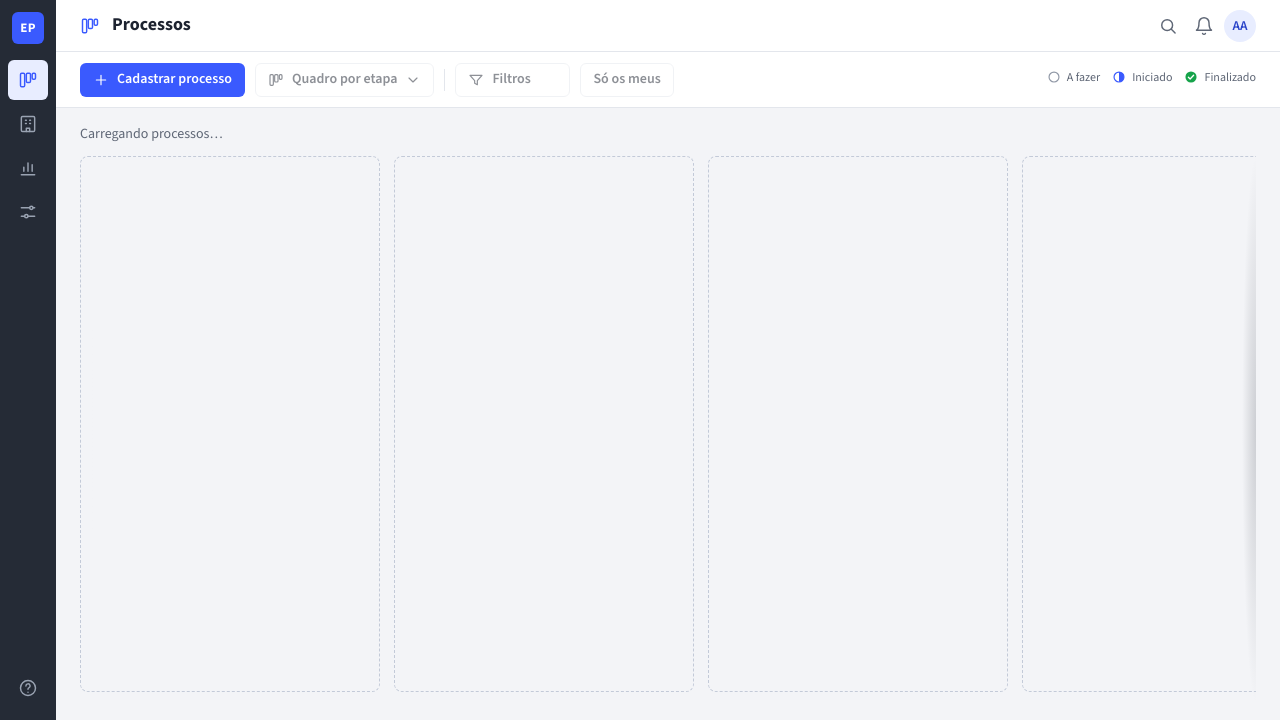
enquanto carrega, mostra "Carregando usuários…" com linhas-fantasma
Click the button named "Administração": (28, 212) [8,192,48,232]
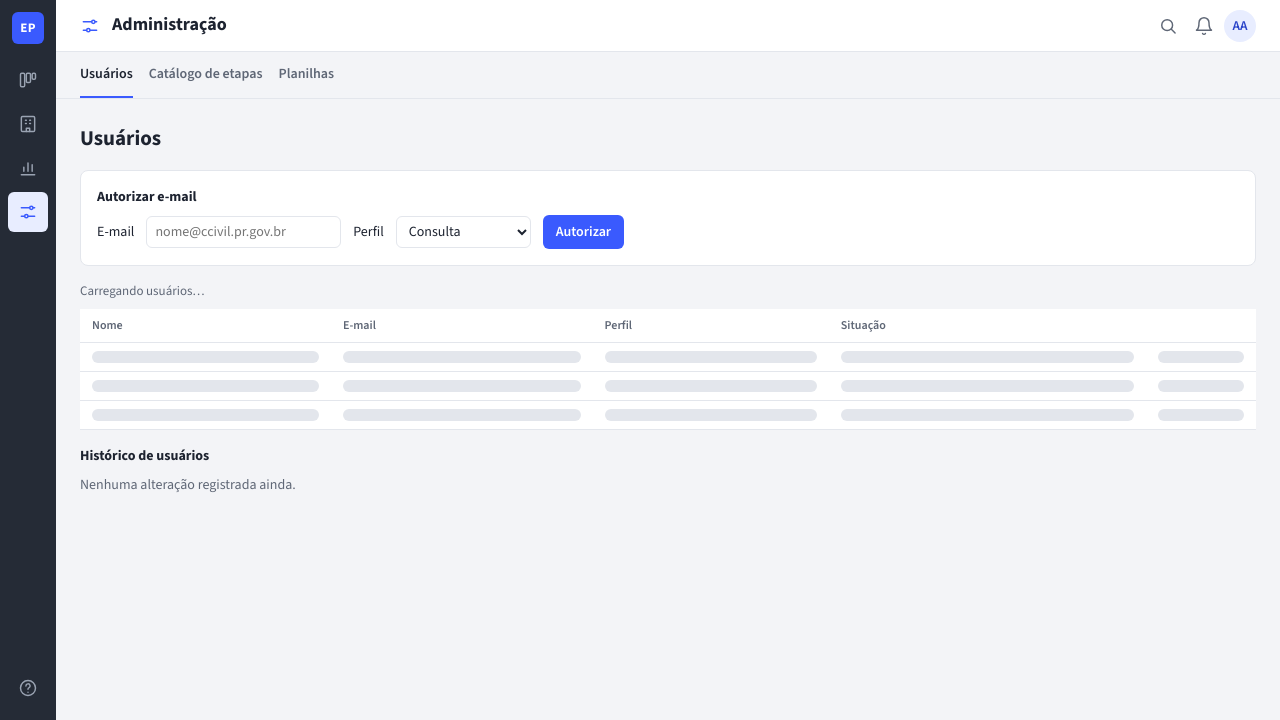
expect the text "Carregando usuários…" is shown: met, box [80,282,205,300]
expect the 1st row with class "linha-fantasma" is shown: met, box [80,343,1256,372]
